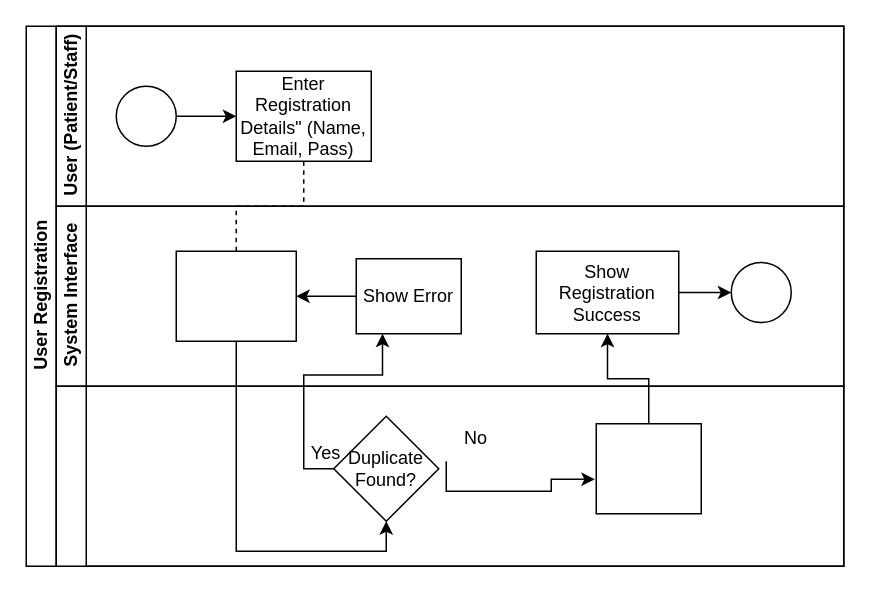
This 870x593 diagram has some shape labels left out. Each missing label, with the box of its shape:
Database: (55, 385, 844, 566)
Save New User Record: (595, 422, 701, 514)
Validate Field Formats: (175, 250, 296, 341)
